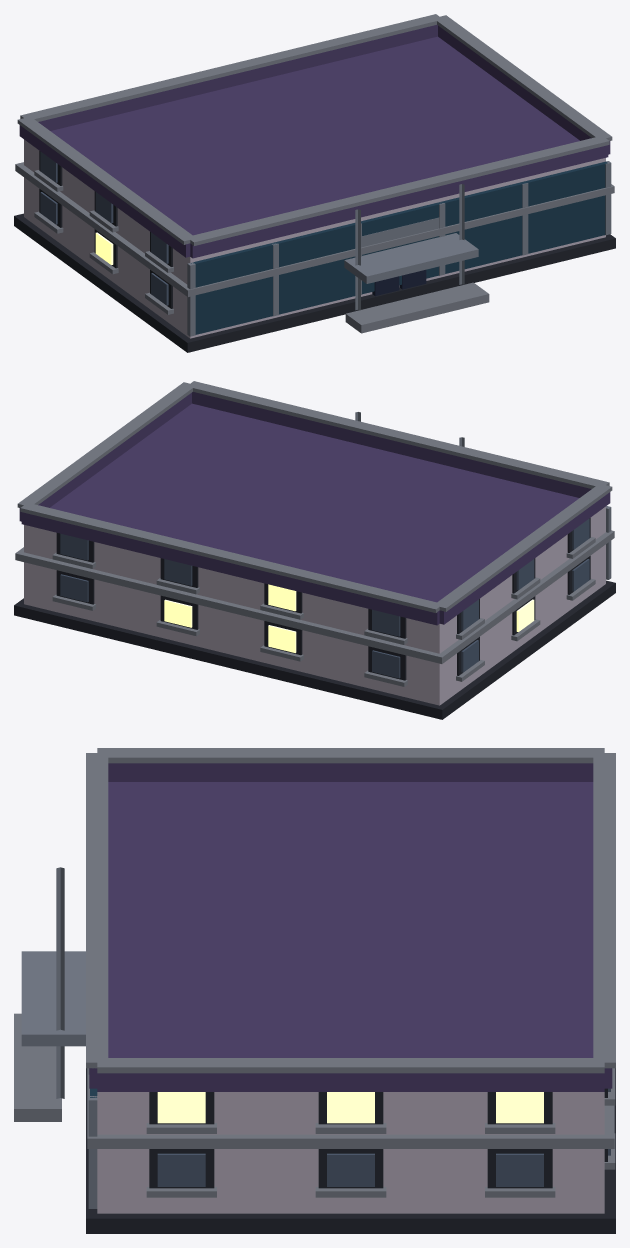
File: smart-high.glb
3 renders of one model, top to bottom at view 1: azimuth 30°, elevation 25°; view 2: azimuth 150°, elevation 25°; view 3: azimuth 270°, elevation 25°, orthographic. The views are drawn at different scales.
Size of the model in its own units: 53.6 by 13.02 by 42.7.
